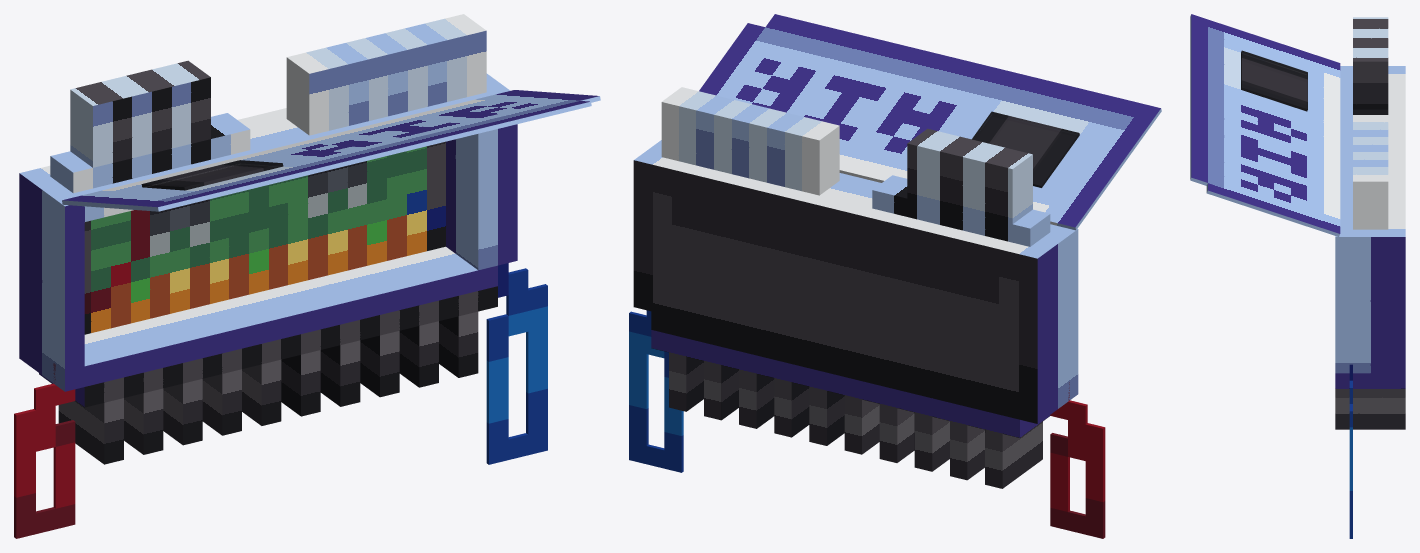
File: air_alarm_panel_open.glb
3 renders of one model, left to right at view 1: azimuth 30°, elevation 25°; view 2: azimuth 150°, elevation 25°; view 3: azimuth 270°, elevation 25°, orthographic. The views are drawn at different scales.
Parts seen in each view (by area): view 1: Lined_Housing, Removable_Circuit_Board, Lower_Vent_Fins, Upper_Sensor_Terminals, Upper_Connector, AIR_Front_Cover, Service_Wire_Right, Service_Wire_Left, Display_Glass; view 2: Lined_Housing, AIR_Front_Cover, Lower_Vent_Fins, Upper_Sensor_Terminals, Upper_Connector, Service_Wire_Left, Service_Wire_Right, Display_Glass; view 3: AIR_Front_Cover, Lined_Housing, Upper_Connector, Lower_Vent_Fins, Upper_Sensor_Terminals, Display_Glass, Service_Wire_Right.
Boxes of the visible parts, left/top/right/bottom form: Lined_Housing: left=19, top=73, right=517, bottom=391; Removable_Circuit_Board: left=84, top=141, right=445, bottom=334; Lower_Vent_Fins: left=39, top=286, right=497, bottom=464; Upper_Sensor_Terminals: left=50, top=60, right=250, bottom=193; Upper_Connector: left=286, top=14, right=486, bottom=135; AIR_Front_Cover: left=62, top=90, right=600, bottom=211; Service_Wire_Right: left=486, top=263, right=547, bottom=464; Service_Wire_Left: left=14, top=363, right=75, bottom=538; Display_Glass: left=141, top=160, right=283, bottom=190; Lined_Housing: left=633, top=140, right=1078, bottom=423; AIR_Front_Cover: left=699, top=14, right=1161, bottom=230; Lower_Vent_Fins: left=651, top=330, right=1050, bottom=488; Upper_Sensor_Terminals: left=872, top=128, right=1050, bottom=246; Upper_Connector: left=661, top=87, right=839, bottom=195; Service_Wire_Left: left=1050, top=382, right=1105, bottom=538; Service_Wire_Right: left=629, top=310, right=683, bottom=472; Display_Glass: left=972, top=111, right=1079, bottom=187; AIR_Front_Cover: left=1190, top=14, right=1340, bottom=236; Lined_Housing: left=1335, top=66, right=1405, bottom=373; Upper_Connector: left=1353, top=115, right=1388, bottom=229; Lower_Vent_Fins: left=1335, top=373, right=1405, bottom=429; Upper_Sensor_Terminals: left=1353, top=17, right=1388, bottom=114; Display_Glass: left=1241, top=50, right=1307, bottom=111; Service_Wire_Right: left=1349, top=364, right=1352, bottom=538.
Bounding box in the file's own units: 0.7594 × 0.6188 × 0.3447.
2 materials, 2 textured.
